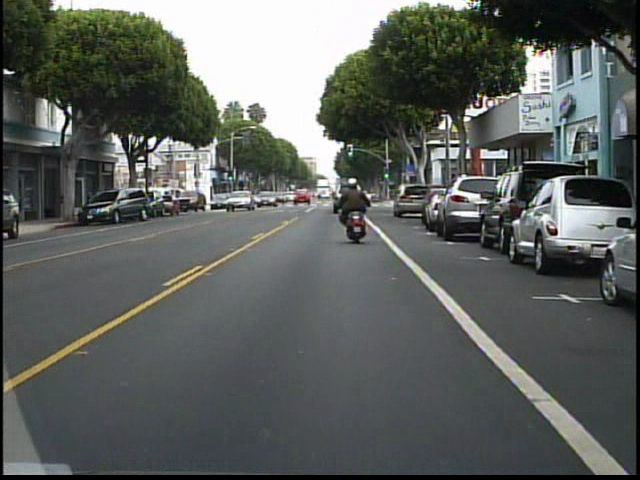person: (334, 171, 373, 241)
